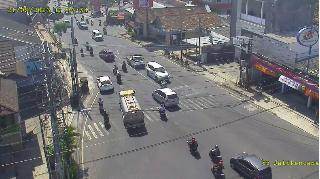mobil: (232, 152, 274, 179), (154, 88, 182, 110), (148, 62, 172, 84), (95, 74, 115, 96), (124, 54, 148, 68), (100, 50, 116, 62)
motor: (183, 138, 200, 162), (210, 159, 228, 179), (208, 146, 226, 164), (98, 109, 114, 129), (156, 102, 168, 122), (114, 72, 125, 87), (96, 98, 104, 114), (122, 62, 132, 74), (160, 80, 170, 91), (79, 47, 87, 59), (112, 64, 118, 76)
